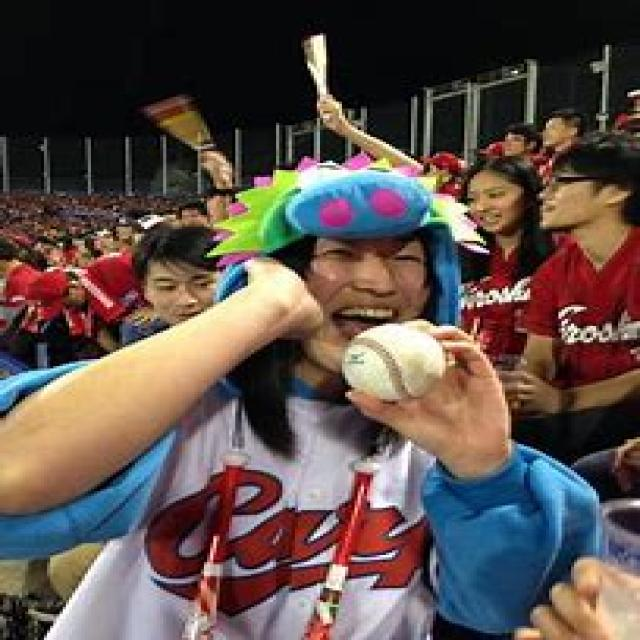ball: (338, 323, 449, 401)
